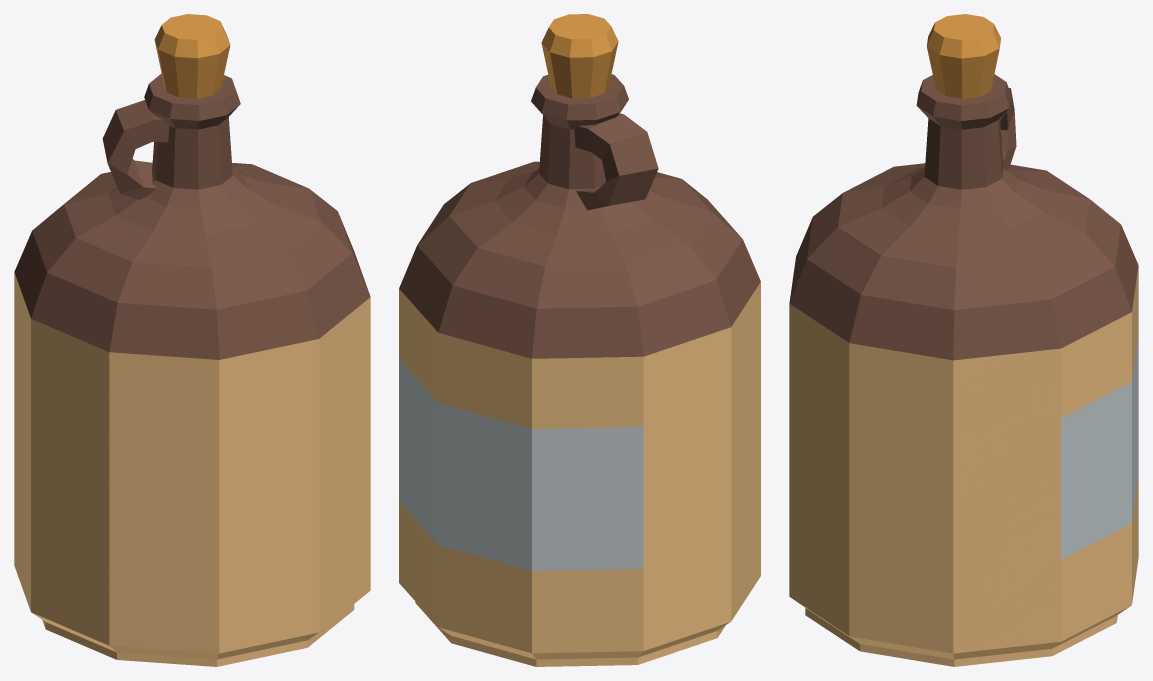
Rendered from Grog Bottle.glb.
3 renders of one model, left to right at view 1: azimuth 30°, elevation 25°; view 2: azimuth 150°, elevation 25°; view 3: azimuth 270°, elevation 25°, orthographic.
Visible parts, largest first — view 1: Grog bottle; view 2: Grog bottle; view 3: Grog bottle.
Part boxes in pixels (x1=…): Grog bottle: x1=14, y1=14, x2=370, y2=666; Grog bottle: x1=399, y1=14, x2=760, y2=666; Grog bottle: x1=789, y1=14, x2=1138, y2=666.
Size of the model in its own units: 0.2802 by 0.49 by 0.2717.
